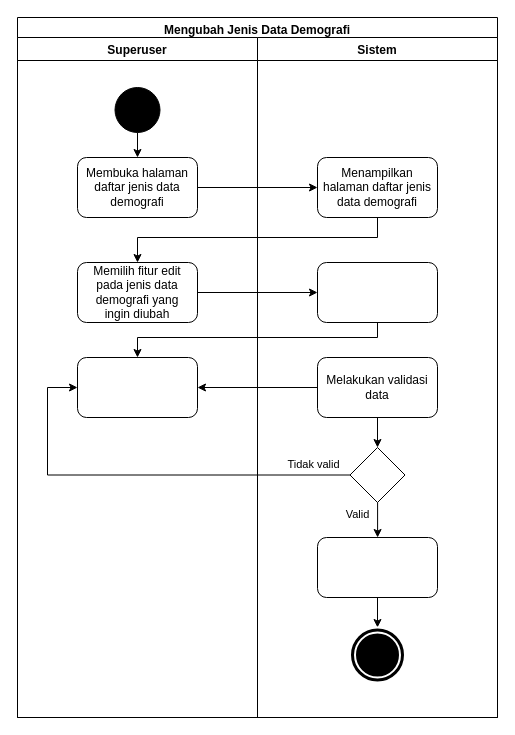
This 515x735 diagram has some shape labels left out. The centre of each missing label's shape, as x and y in pixels:
"Memunculkan dialog formulir pengubahan jenis data demografi" belongs at [377,292].
"Mengisi formulir" belongs at [137,387].
"Menyimpan Data" belongs at [377,567].
